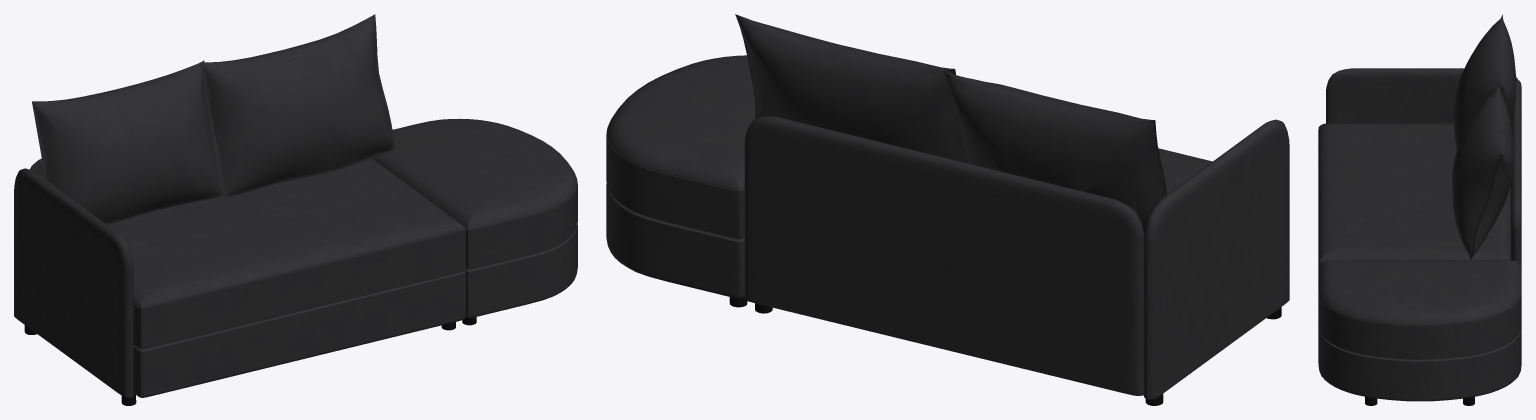
Rendered from 48 - LINDÅKRA - 雙人座沙發床，Vissle 深灰色 IKEA 線上購物.glb.
The picture shows the model from 3 angles, left to right: view 1: azimuth 30°, elevation 25°; view 2: azimuth 150°, elevation 25°; view 3: azimuth 270°, elevation 25°; orthographic projection. The views are drawn at different scales.
Visible parts, largest first — view 1: Mesh_0; view 2: Mesh_0; view 3: Mesh_0.
Boxes of the visible parts, x1,y1,x2,y2 form: Mesh_0: (14,14,577,405); Mesh_0: (606,14,1289,405); Mesh_0: (1318,14,1521,405).
Bounding box in the file's own units: 2.06 × 0.95 × 0.8705.
1 material, 1 textured.
